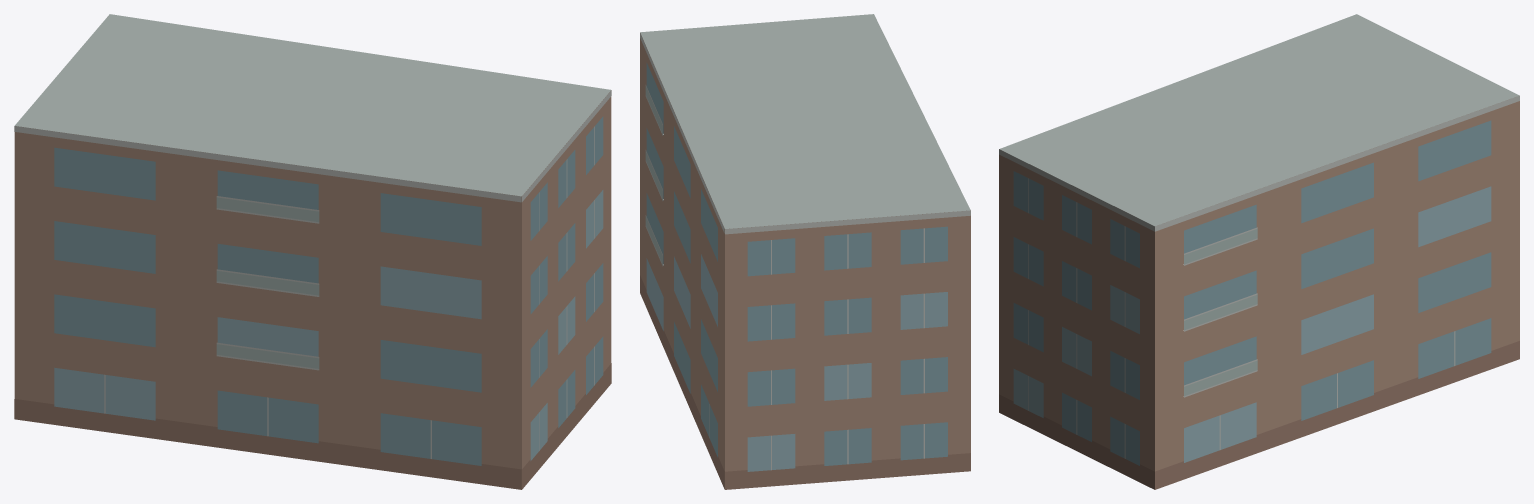
Rendered from survey-upis-32809241.glb.
The picture shows the model from 3 angles, left to right: view 1: azimuth 30°, elevation 25°; view 2: azimuth 150°, elevation 25°; view 3: azimuth 270°, elevation 25°; orthographic projection. The views are drawn at different scales.
Parts seen in each view (by area): view 1: survey-upis-32809241.tmp; view 2: survey-upis-32809241.tmp; view 3: survey-upis-32809241.tmp.
Part boxes in pixels (x1,y1,x2,y2): survey-upis-32809241.tmp: (14,14,611,489); survey-upis-32809241.tmp: (640,14,970,489); survey-upis-32809241.tmp: (999,14,1519,489).
Size of the model in its own units: 20.57 by 11.9 by 21.32.
